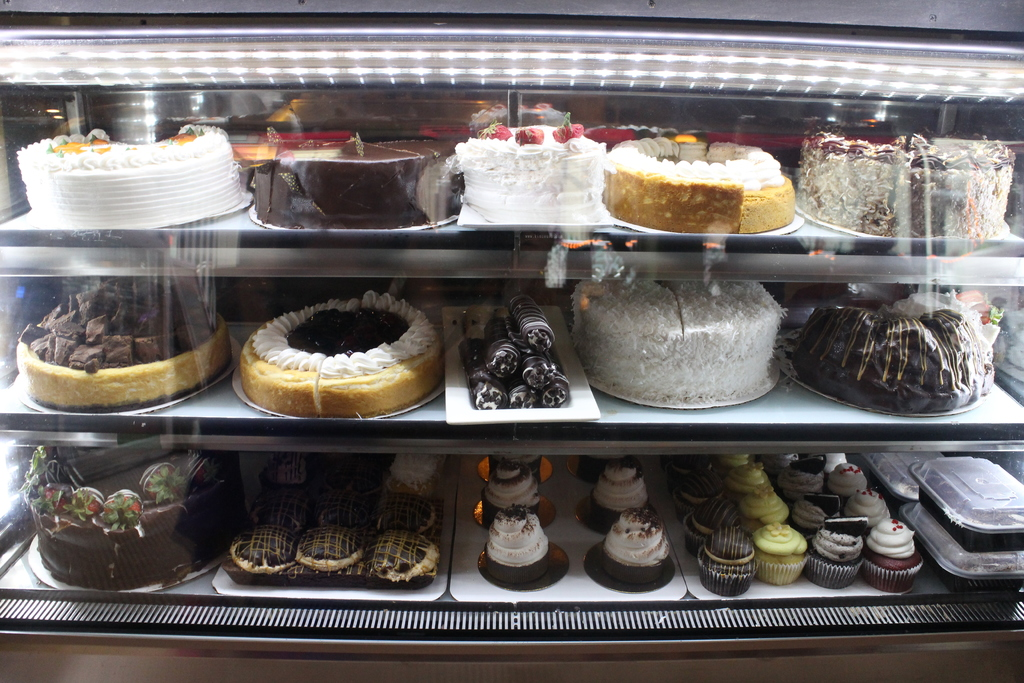cake: (20, 446, 243, 589), (572, 279, 786, 411), (237, 291, 446, 420), (14, 113, 226, 233), (18, 292, 230, 411), (792, 302, 991, 417), (797, 136, 1020, 236), (252, 126, 456, 231), (604, 133, 792, 231), (455, 120, 604, 224)
